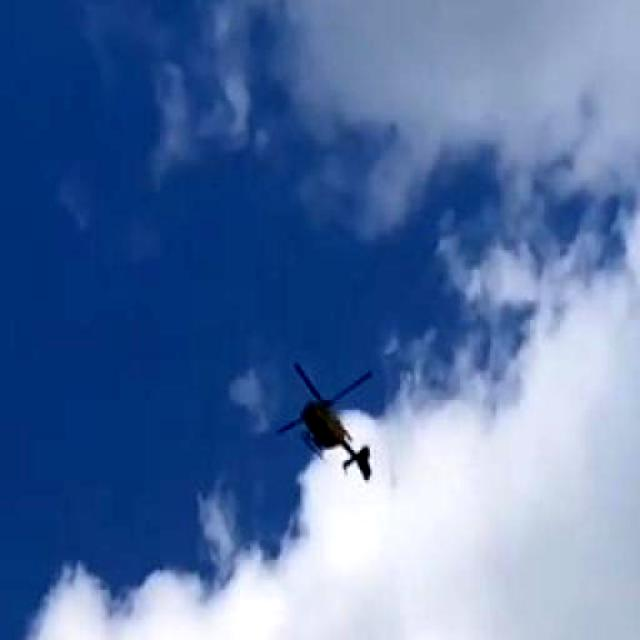drone: (248, 322, 400, 516)
